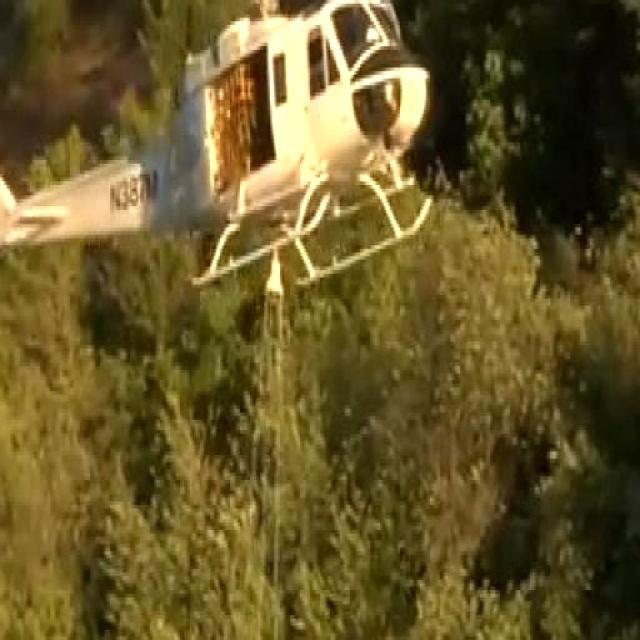drone: (0, 0, 438, 294)
